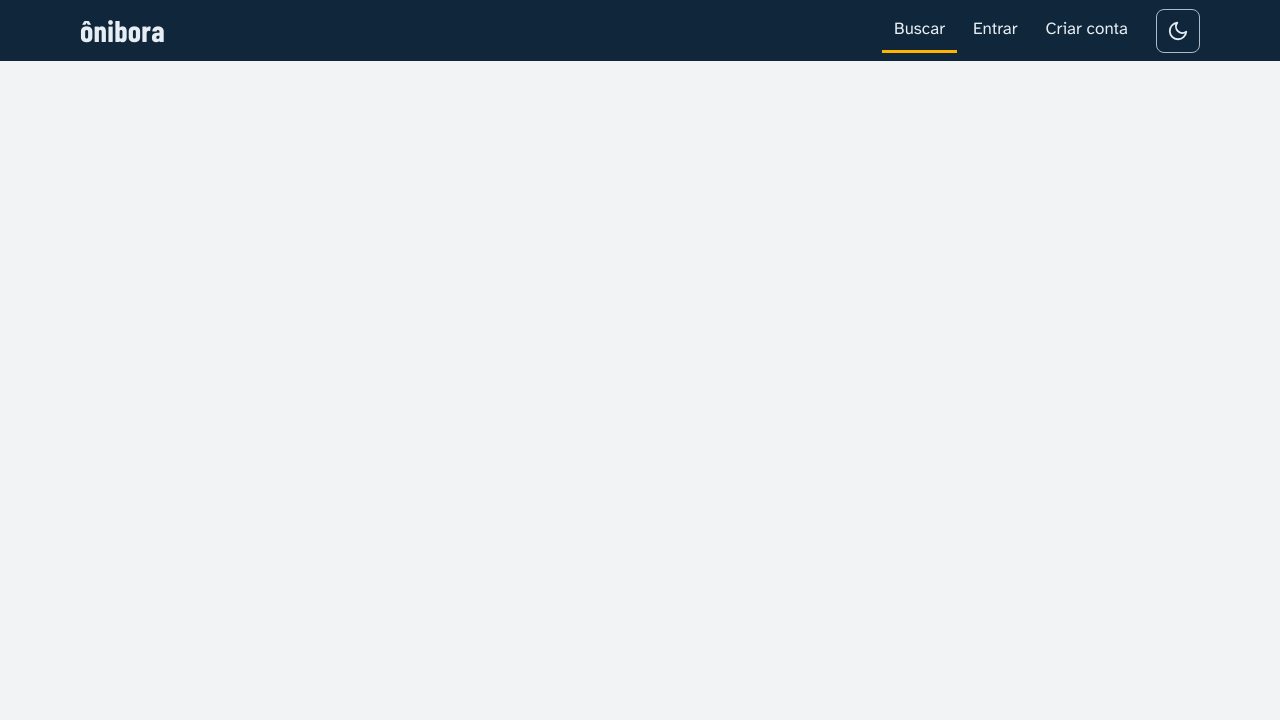
Scenario: Header › o botão de tema alterna o tema e muda o nome acessível
The image size is (1280, 720).
Click the button named "Mudar para o tema escuro".
click(1178, 30)  # box [1156,8,1200,52]
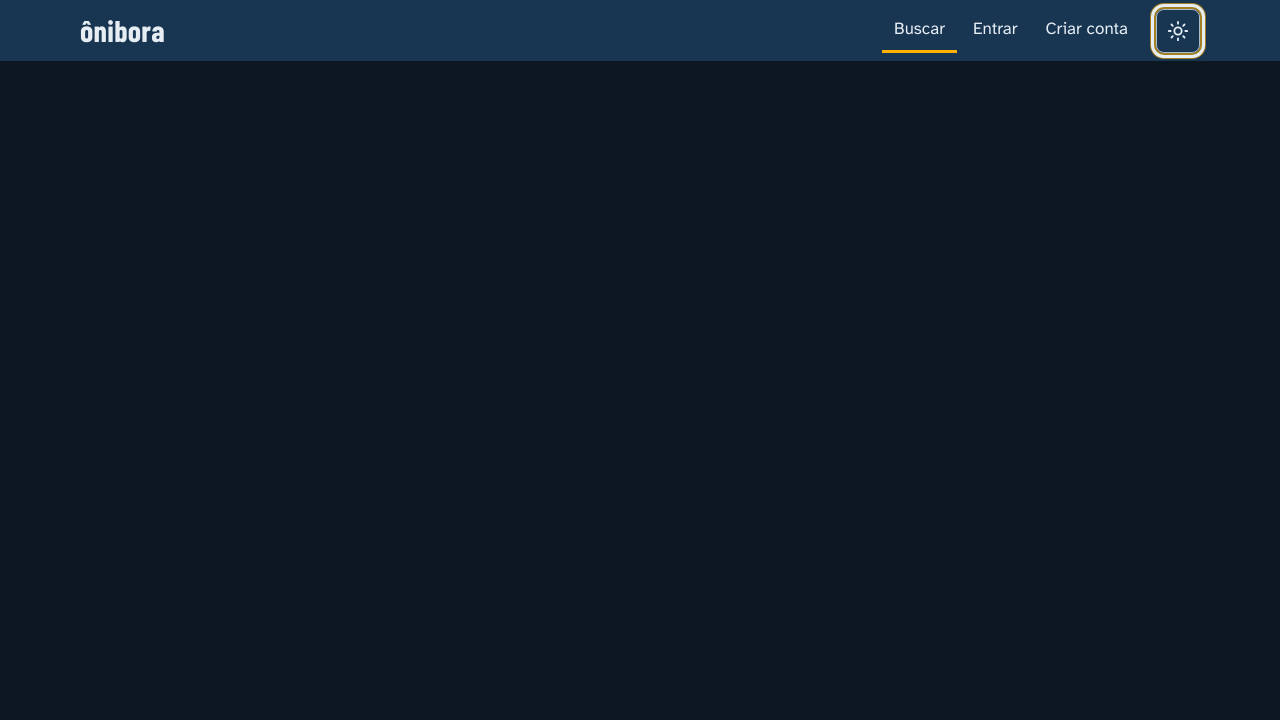
Expected: the button named "Mudar para o tema claro" is shown, [1156,8,1200,52]
